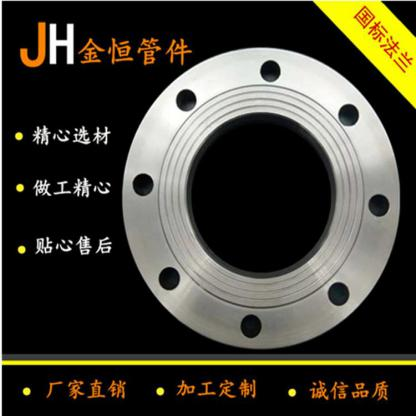FOD: (116, 43, 403, 352)
